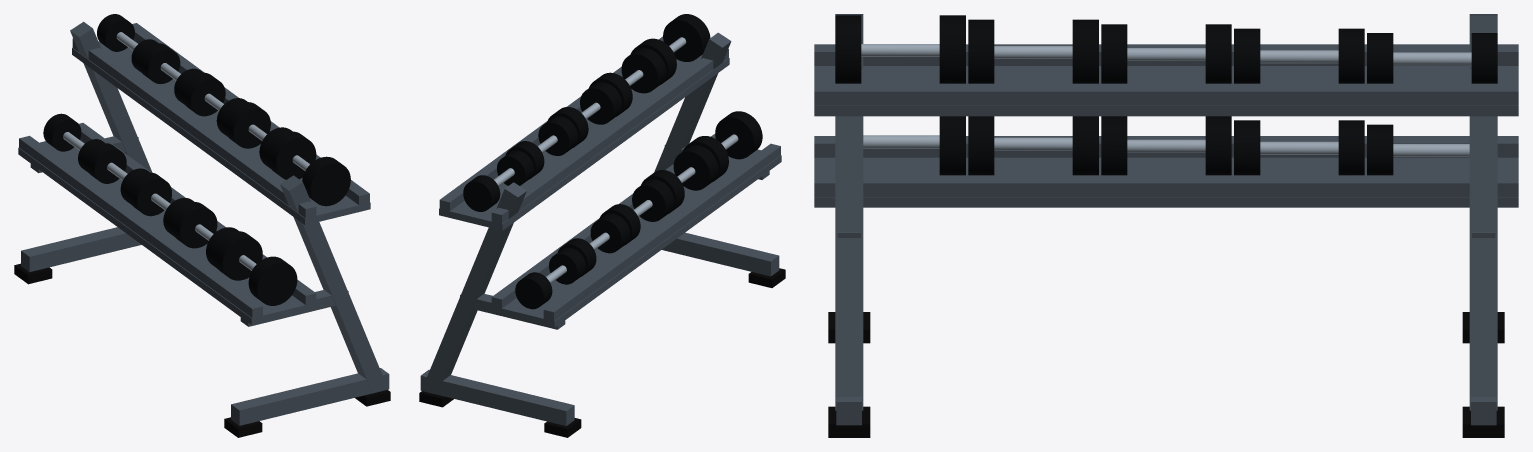
The model's file is cad_dumbbell_rack.glb.
3 views of the same model, side by side, from view 1: azimuth 30°, elevation 25°; view 2: azimuth 150°, elevation 25°; view 3: azimuth 270°, elevation 25° (orthographic). The views are drawn at different scales.
Parts seen in each view (by area): view 1: 008_Dumbbell shelf lip, 012_Dumbbell circular head, 002_Sloping rack upright, 003_Rack lower foot, 011_Dumbbell textured grip, 000_Rubber floor foot; view 2: 008_Dumbbell shelf lip, 012_Dumbbell circular head, 002_Sloping rack upright, 003_Rack lower foot, 011_Dumbbell textured grip, 000_Rubber floor foot; view 3: 008_Dumbbell shelf lip, 012_Dumbbell circular head, 002_Sloping rack upright, 011_Dumbbell textured grip, 000_Rubber floor foot, 003_Rack lower foot.
Boxes of the visible parts, x1,y1,x2,y2 form: 008_Dumbbell shelf lip: (18, 23, 370, 326); 012_Dumbbell circular head: (43, 14, 350, 305); 002_Sloping rack upright: (70, 21, 385, 391); 003_Rack lower foot: (21, 227, 389, 425); 011_Dumbbell textured grip: (63, 32, 309, 270); 000_Rubber floor foot: (14, 263, 390, 437); 008_Dumbbell shelf lip: (439, 36, 781, 329); 012_Dumbbell circular head: (463, 14, 762, 309); 002_Sloping rack upright: (424, 32, 731, 392); 003_Rack lower foot: (420, 232, 779, 426); 011_Dumbbell textured grip: (494, 37, 738, 283); 000_Rubber floor foot: (419, 268, 785, 437); 008_Dumbbell shelf lip: (814, 44, 1518, 237); 012_Dumbbell circular head: (835, 15, 1497, 175); 002_Sloping rack upright: (835, 14, 1497, 410); 011_Dumbbell textured grip: (861, 44, 1471, 156); 000_Rubber floor foot: (828, 312, 1504, 437); 003_Rack lower foot: (836, 397, 1496, 425).
Size of the model in its own units: 0.575 by 0.8915 by 1.51.
